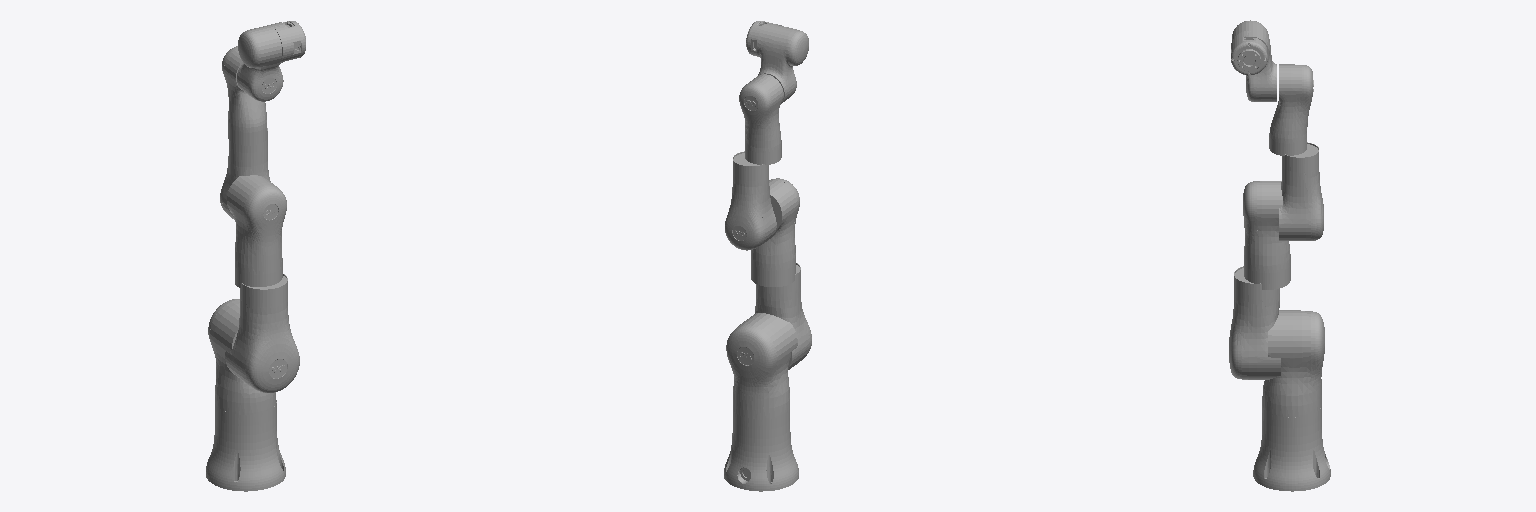
robot.urdf — rizon4:
<?xml version="1.0"?>
<!-- ======================================================================== -->
<!-- | Flexiv Rizon 4 (with blurred dynamic parameters)                     | -->
<!-- ======================================================================== -->
<robot name="rizon4">
  <joint name="joint1" type="revolute">
    <parent link="base_link" />
    <child link="link1" />
    <origin rpy="0.0 0.0 -3.141592653589793" xyz="0.0 0.0 0.155" />
    <axis xyz="0 0 1" />
    <limit effort="123" lower="-2.7925" upper="2.7925" velocity="2.0944" />
  </joint>
  <joint name="joint2" type="revolute">
    <parent link="link1" />
    <child link="link2" />
    <origin rpy="0.0 0.0 0.0" xyz="0.0 0.03 0.21" />
    <axis xyz="0 1 0" />
    <limit effort="123" lower="-2.2689" upper="2.2689" velocity="2.0944" />
  </joint>
  <joint name="joint3" type="revolute">
    <parent link="link2" />
    <child link="link3" />
    <origin rpy="0.0 0.0 0.0" xyz="0.0 0.035 0.205" />
    <axis xyz="0 0 1" />
    <limit effort="64" lower="-2.9671" upper="2.9671" velocity="2.4435" />
  </joint>
  <joint name="joint4" type="revolute">
    <parent link="link3" />
    <child link="link4" />
    <origin rpy="0.0 0.0 -3.141592653589793" xyz="-0.02 -0.03 0.19" />
    <axis xyz="0 1 0" />
    <limit effort="64" lower="-1.8675" upper="2.6878" velocity="2.4435" />
  </joint>
  <joint name="joint5" type="revolute">
    <parent link="link4" />
    <child link="link5" />
    <origin rpy="0.0 0.0 -3.141592653589793" xyz="-0.02 0.025 0.195" />
    <axis xyz="0 0 1" />
    <limit effort="39" lower="-2.9671" upper="2.9671" velocity="4.8869" />
  </joint>
  <joint name="joint6" type="revolute">
    <parent link="link5" />
    <child link="link6" />
    <origin rpy="0.0 0.0 0.0" xyz="0.0 0.03 0.19" />
    <axis xyz="0 1 0" />
    <limit effort="39" lower="-1.3963" upper="4.5379" velocity="4.8869" />
  </joint>
  <joint name="joint7" type="revolute">
    <parent link="link6" />
    <child link="link7" />
    <origin rpy="0.0 -1.5707963478683205 0.0" xyz="-0.015 0.073 0.11" />
    <axis xyz="0 0 1" />
    <limit effort="39" lower="-2.9671" upper="2.9671" velocity="4.8869" />
  </joint>
  <joint name="link7_to_flange" type="fixed">
    <parent link="link7" />
    <child link="flange" />
    <origin rpy="0.0 0.0 -3.141592653589793" xyz="0.0 0.0 0.081" />
  </joint>

  <link name="base_link">
    <inertial>
      <mass value="3.7" />
      <origin rpy="0 0 0" xyz="0.0 -0.0 0.09" />
      <inertia ixx="0.02" ixy="0.0" ixz="0.0" iyy="0.02" iyz="0.0" izz="0.01" />
    </inertial>
    <visual name="shell">
      <origin rpy="0 0 0" xyz="0 0 0" />
      <geometry>
        <mesh filename="meshes/rizon4/visual/link0.obj" />
      </geometry>
      <material name="rizon_light_grey" />
    </visual>
    <collision name="hull">
      <origin rpy="0 0 0" xyz="0 0 0" />
      <geometry>
        <mesh filename="meshes/rizon4/collision/link0.stl" />
      </geometry>
    </collision>
  </link>
  <link name="link1">
    <inertial>
      <mass value="3.7" />
      <origin rpy="0 0 0" xyz="0.0 0.01 0.15" />
      <inertia ixx="0.03" ixy="0.0" ixz="0.0" iyy="0.03" iyz="0.0" izz="0.01" />
    </inertial>
    <visual name="shell">
      <origin rpy="0 0 0" xyz="0 0 0" />
      <geometry>
        <mesh filename="meshes/rizon4/visual/link1.obj" />
      </geometry>
      <material name="rizon_light_grey" />
    </visual>
    <visual name="ring">
      <origin rpy="0 0 0" xyz="0 0 -0.0025" />
      <geometry>
        <mesh filename="meshes/rizon4/visual/ring.obj" scale="0.062 0.062 0.002" />
      </geometry>
      <material name="rizon_white" />
    </visual>
    <collision name="hull">
      <origin rpy="0 0 0" xyz="0 0 0" />
      <geometry>
        <mesh filename="meshes/rizon4/collision/link1.stl" />
      </geometry>
    </collision>
  </link>
  <link name="link2">
    <inertial>
      <mass value="2.7" />
      <origin rpy="0 0 0" xyz="0.0 0.04 0.1" />
      <inertia ixx="0.02" ixy="0.0" ixz="0.0" iyy="0.02" iyz="-0.0" izz="0.0" />
    </inertial>
    <visual name="shell">
      <origin rpy="0 0 0" xyz="0 0 0" />
      <geometry>
        <mesh filename="meshes/rizon4/visual/link2.obj" />
      </geometry>
      <material name="rizon_light_grey" />
    </visual>
    <visual name="ring">
      <origin rpy="1.5707963 0 0" xyz="0 -0.0025 0" />
      <geometry>
        <mesh filename="meshes/rizon4/visual/ring.obj" scale="0.062 0.062 0.002" />
      </geometry>
      <material name="rizon_white" />
    </visual>
    <collision name="hull">
      <origin rpy="0 0 0" xyz="0 0 0" />
      <geometry>
        <mesh filename="meshes/rizon4/collision/link2.stl" />
      </geometry>
    </collision>
  </link>
  <link name="link3">
    <inertial>
      <mass value="2.4" />
      <origin rpy="0 0 0" xyz="-0.01 -0.0 0.13" />
      <inertia ixx="0.01" ixy="0.0" ixz="-0.0" iyy="0.01" iyz="-0.0" izz="0.0" />
    </inertial>
    <visual name="shell">
      <origin rpy="0 0 0" xyz="0 0 0" />
      <geometry>
        <mesh filename="meshes/rizon4/visual/link3.obj" />
      </geometry>
      <material name="rizon_light_grey" />
    </visual>
    <visual name="ring">
      <origin rpy="0 0 0" xyz="0 0 -0.0025" />
      <geometry>
        <mesh filename="meshes/rizon4/visual/ring.obj" scale="0.051 0.051 0.002" />
      </geometry>
      <material name="rizon_white" />
    </visual>
    <collision name="hull">
      <origin rpy="0 0 0" xyz="0 0 0" />
      <geometry>
        <mesh filename="meshes/rizon4/collision/link3.stl" />
      </geometry>
    </collision>
  </link>
  <link name="link4">
    <inertial>
      <mass value="2.4" />
      <origin rpy="0 0 0" xyz="-0.01 0.03 0.1" />
      <inertia ixx="0.02" ixy="0.0" ixz="-0.0" iyy="0.02" iyz="-0.0" izz="0.0" />
    </inertial>
    <visual name="shell">
      <origin rpy="0 0 0" xyz="0 0 0" />
      <geometry>
        <mesh filename="meshes/rizon4/visual/link4.obj" />
      </geometry>
      <material name="rizon_light_grey" />
    </visual>
    <visual name="ring">
      <origin rpy="1.5707963 0 0" xyz="0 -0.0025 0" />
      <geometry>
        <mesh filename="meshes/rizon4/visual/ring.obj" scale="0.051 0.051 0.002" />
      </geometry>
      <material name="rizon_white" />
    </visual>
    <collision name="hull">
      <origin rpy="0 0 0" xyz="0 0 0" />
      <geometry>
        <mesh filename="meshes/rizon4/collision/link4.stl" />
      </geometry>
    </collision>
  </link>
  <link name="link5">
    <inertial>
      <mass value="2.4" />
      <origin rpy="0 0 0" xyz="-0.0 0.0 0.13" />
      <inertia ixx="0.01" ixy="0.0" ixz="0.0" iyy="0.01" iyz="0.0" izz="0.0" />
    </inertial>
    <visual name="shell">
      <origin rpy="0 0 0" xyz="0 0 0" />
      <geometry>
        <mesh filename="meshes/rizon4/visual/link5.obj" />
      </geometry>
      <material name="rizon_light_grey" />
    </visual>
    <visual name="ring">
      <origin rpy="0 0 0" xyz="0 0 -0.0025" />
      <geometry>
        <mesh filename="meshes/rizon4/visual/ring.obj" scale="0.051 0.051 0.002" />
      </geometry>
      <material name="rizon_white" />
    </visual>
    <collision name="hull">
      <origin rpy="0 0 0" xyz="0 0 0" />
      <geometry>
        <mesh filename="meshes/rizon4/collision/link5.stl" />
      </geometry>
    </collision>
  </link>
  <link name="link6">
    <inertial>
      <mass value="2.2" />
      <origin rpy="0 0 0" xyz="0.02 0.06 0.07" />
      <inertia ixx="0.01" ixy="0.0" ixz="0.0" iyy="0.01" iyz="0.0" izz="0.0" />
    </inertial>
    <visual name="shell">
      <origin rpy="0 0 0" xyz="0 0 0" />
      <geometry>
        <mesh filename="meshes/rizon4/visual/link6.obj" />
      </geometry>
      <material name="rizon_light_grey" />
    </visual>
    <visual name="ring">
      <origin rpy="1.5707963 0 0" xyz="0 -0.0025 0" />
      <geometry>
        <mesh filename="meshes/rizon4/visual/ring.obj" scale="0.051 0.051 0.002" />
      </geometry>
      <material name="rizon_white" />
    </visual>
    <collision name="hull">
      <origin rpy="0 0 0" xyz="0 0 0" />
      <geometry>
        <mesh filename="meshes/rizon4/collision/link6.stl" />
      </geometry>
    </collision>
  </link>
  <link name="link7">
    <inertial>
      <mass value="0.8" />
      <origin rpy="0 0 0" xyz="0.0 -0.0 0.03" />
      <inertia ixx="0.0" ixy="0.0" ixz="0.0" iyy="0.0" iyz="0.0" izz="0.0" />
    </inertial>
    <visual name="shell">
      <origin rpy="0 0 0" xyz="0 0 0" />
      <geometry>
        <mesh filename="meshes/rizon4/visual/link7.obj" />
      </geometry>
      <material name="rizon_light_grey" />
    </visual>
    <visual name="ring">
      <origin rpy="0 0 0" xyz="0 0 -0.0025" />
      <geometry>
        <mesh filename="meshes/rizon4/visual/ring.obj" scale="0.051 0.051 0.002" />
      </geometry>
      <material name="rizon_white" />
    </visual>
    <collision name="hull">
      <origin rpy="0 0 0" xyz="0 0 0" />
      <geometry>
        <mesh filename="meshes/rizon4/collision/link7.stl" />
      </geometry>
    </collision>
  </link>
  <link name="flange">
    <inertial>
      <mass value="0.0" />
      <origin rpy="0 0 0" xyz="0.0 0.0 0.0" />
      <inertia ixx="0.0" ixy="0.0" ixz="0.0" iyy="0.0" iyz="0.0" izz="0.0" />
    </inertial>
  </link>
  <material name="rizon_light_grey">
    <color rgba="0.7 0.7 0.7 1.0" />
  </material>
  <material name="rizon_dark_grey">
    <color rgba="0.4 0.4 0.4 1.0" />
  </material>
  <material name="rizon_white">
    <color rgba="1.0 1.0 1.0 1.0" />
  </material>
</robot>

--- Render facts (derived) ---
The picture shows the robot from 3 angles, left to right: view 1: azimuth 30°, elevation 25°; view 2: azimuth 150°, elevation 25°; view 3: azimuth 270°, elevation 25°; orthographic projection.
Model rizon4 with 9 links and 8 joints (7 revolute, 1 fixed), rooted at base_link, posed every joint at zero.
Links seen in each view (by area): view 1: link2, link3, base_link, link1, link6, link5, link4, link7; view 2: link1, base_link, link4, link3, link5, link6, link2; view 3: link1, base_link, link2, link3, link4, link5, link6, link7.
Link boxes in pixels (x1=…): link2: x1=225, y1=274, x2=299, y2=392; link3: x1=227, y1=175, x2=286, y2=287; base_link: x1=206, y1=402, x2=285, y2=491; link1: x1=208, y1=299, x2=276, y2=426; link6: x1=237, y1=22, x2=287, y2=101; link5: x1=222, y1=46, x2=266, y2=145; link4: x1=220, y1=128, x2=270, y2=219; link7: x1=272, y1=21, x2=305, y2=62; link1: x1=726, y1=313, x2=797, y2=429; base_link: x1=724, y1=410, x2=798, y2=491; link4: x1=725, y1=151, x2=776, y2=250; link3: x1=751, y1=178, x2=799, y2=286; link5: x1=739, y1=74, x2=783, y2=164; link6: x1=757, y1=23, x2=808, y2=103; link2: x1=755, y1=263, x2=811, y2=369; link1: x1=1262, y1=310, x2=1324, y2=428; base_link: x1=1253, y1=406, x2=1330, y2=491; link2: x1=1229, y1=266, x2=1280, y2=379; link3: x1=1243, y1=181, x2=1290, y2=289; link4: x1=1279, y1=142, x2=1323, y2=240; link5: x1=1269, y1=64, x2=1313, y2=155; link6: x1=1232, y1=20, x2=1276, y2=101; link7: x1=1231, y1=31, x2=1267, y2=74.
Bounding box of the posed robot: 0.206 × 0.2698 × 1.3 m (x, y, z).
Meshes: 9 distinct files referenced, 8 mesh visuals loaded (8 OBJ); not drawn: 7 (file found but could not be loaded).